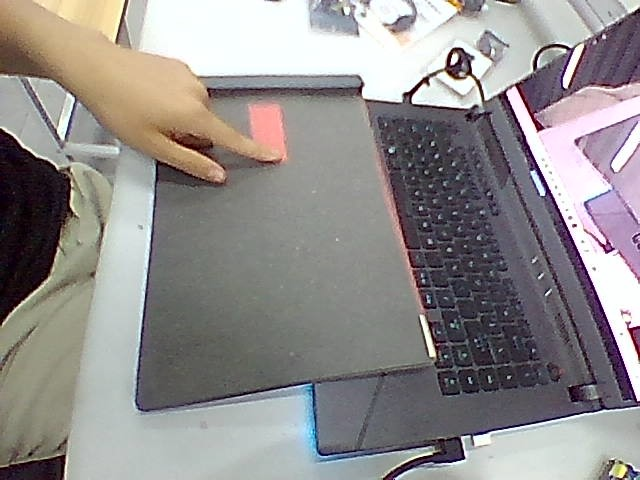card: (248, 103, 288, 160)
